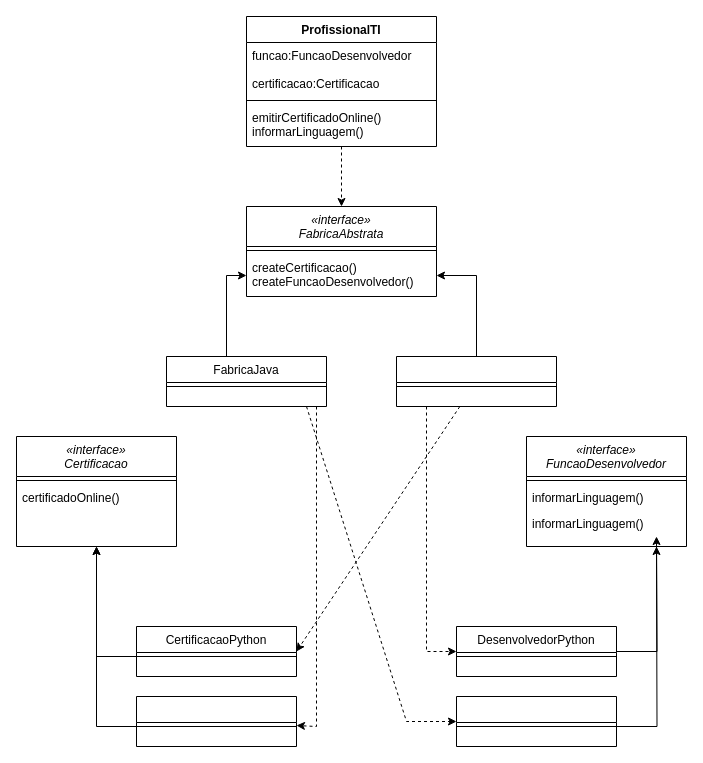
Image size: 703x763. Some labels were removed from this diagram. Here are the shapes that lost their labels. From the top down, the centre of each, then its label:
pixel 476 381: FabricaPython
pixel 216 721: CertificacaoJava
pixel 536 721: DesenvolvedorJava
